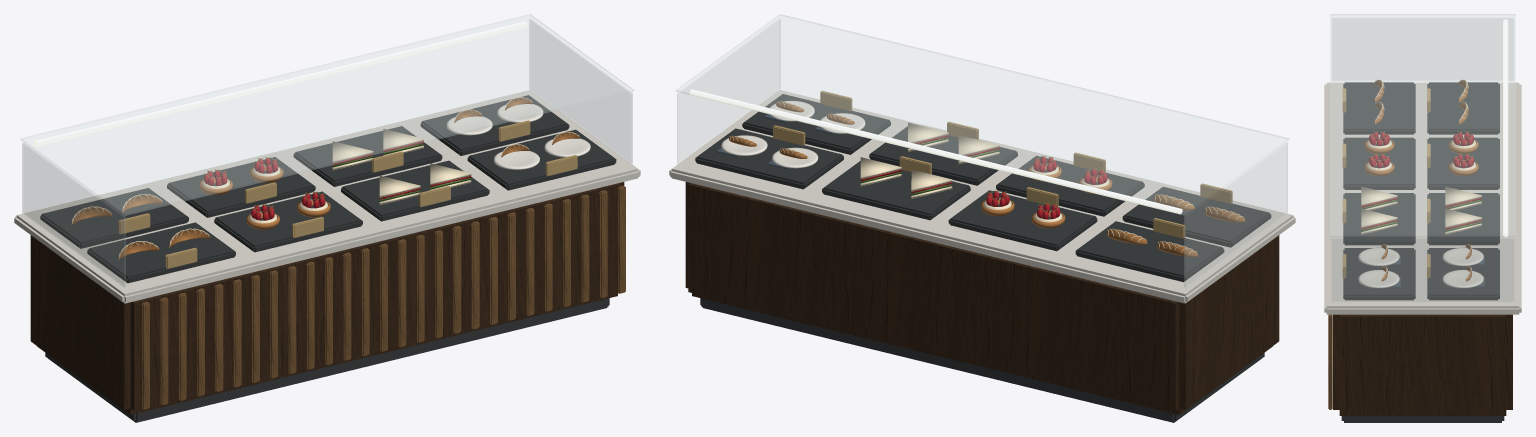
Rendered from bakery_vitrine.glb.
3 renders of one model, left to right at view 1: azimuth 30°, elevation 25°; view 2: azimuth 150°, elevation 25°; view 3: azimuth 270°, elevation 25°, orthographic. The views are drawn at different scales.
Visible parts, largest first — view 1: bakery_vitrine_Shop_display_glass, bakery_vitrine_CC0_Smoked_walnut, bakery_vitrine_Anodised_graphite, bakery_vitrine_CC0_Oak_veneer, bakery_vitrine_Honed_solid_surface, bakery_vitrine_Satin_champagne, bakery_vitrine_Warm_LED_diffuser, bakery_vitrine_V24_service_porcelain.002, bakery_vitrine_V24_service_porcelain, bakery_vitrine_V24_service_porcelain.001, bakery_vitrine_V24_service_porcelain.003, bakery_vitrine_V24_cream.004 (+3 smaller); view 2: bakery_vitrine_CC0_Smoked_walnut, bakery_vitrine_Shop_display_glass, bakery_vitrine_Anodised_graphite, bakery_vitrine_Honed_solid_surface, bakery_vitrine_Satin_champagne, bakery_vitrine_Warm_LED_diffuser, bakery_vitrine_V24_cream.013, bakery_vitrine_V24_cream.012, bakery_vitrine_V24_cream.004, bakery_vitrine_V24_service_porcelain.002, bakery_vitrine_V24_service_porcelain.003, bakery_vitrine_V24_cream.005; view 3: bakery_vitrine_Shop_display_glass, bakery_vitrine_Anodised_graphite, bakery_vitrine_CC0_Smoked_walnut, bakery_vitrine_Honed_solid_surface, bakery_vitrine_Warm_LED_diffuser, bakery_vitrine_Satin_champagne, bakery_vitrine_V24_service_porcelain, bakery_vitrine_V24_service_porcelain.001, bakery_vitrine_V24_service_porcelain.002, bakery_vitrine_V24_service_porcelain.003, bakery_vitrine_V24_cream.013, bakery_vitrine_V24_cream.005 (+11 smaller).
Part boxes in pixels (x1,y1,x2,y2): bakery_vitrine_Shop_display_glass: (21, 14, 633, 287); bakery_vitrine_CC0_Smoked_walnut: (30, 182, 624, 414); bakery_vitrine_Anodised_graphite: (40, 95, 616, 422); bakery_vitrine_CC0_Oak_veneer: (141, 185, 625, 409); bakery_vitrine_Honed_solid_surface: (14, 90, 640, 303); bakery_vitrine_Satin_champagne: (118, 120, 577, 268); bakery_vitrine_Warm_LED_diffuser: (34, 21, 527, 146); bakery_vitrine_V24_service_porcelain.002: (446, 116, 492, 135); bakery_vitrine_V24_service_porcelain: (494, 151, 539, 169); bakery_vitrine_V24_service_porcelain.001: (544, 138, 590, 157); bakery_vitrine_V24_service_porcelain.003: (497, 104, 543, 122); bakery_vitrine_V24_cream.004: (379, 176, 420, 204); bakery_vitrine_CC0_Smoked_walnut: (685, 182, 1279, 414); bakery_vitrine_Shop_display_glass: (676, 14, 1288, 287); bakery_vitrine_Anodised_graphite: (695, 94, 1271, 422); bakery_vitrine_Honed_solid_surface: (669, 90, 1295, 303); bakery_vitrine_Satin_champagne: (773, 90, 1232, 238); bakery_vitrine_Warm_LED_diffuser: (689, 89, 1182, 214); bakery_vitrine_V24_cream.013: (860, 157, 901, 186); bakery_vitrine_V24_cream.012: (911, 169, 952, 198); bakery_vitrine_V24_cream.004: (958, 135, 999, 164); bakery_vitrine_V24_service_porcelain.002: (772, 147, 818, 168); bakery_vitrine_V24_service_porcelain.003: (721, 135, 767, 155); bakery_vitrine_V24_cream.005: (908, 122, 948, 151); bakery_vitrine_Shop_display_glass: (1330, 14, 1515, 301); bakery_vitrine_Anodised_graphite: (1341, 82, 1504, 422); bakery_vitrine_CC0_Smoked_walnut: (1333, 314, 1512, 415); bakery_vitrine_Honed_solid_surface: (1324, 82, 1521, 314); bakery_vitrine_Warm_LED_diffuser: (1503, 19, 1508, 237); bakery_vitrine_Satin_champagne: (1342, 88, 1430, 278); bakery_vitrine_V24_service_porcelain: (1358, 247, 1399, 266); bakery_vitrine_V24_service_porcelain.001: (1358, 270, 1399, 288); bakery_vitrine_V24_service_porcelain.002: (1442, 247, 1483, 266); bakery_vitrine_V24_service_porcelain.003: (1442, 270, 1483, 288); bakery_vitrine_V24_cream.013: (1445, 209, 1481, 234); bakery_vitrine_V24_cream.005: (1361, 209, 1397, 234).
Bounding box in the file's own units: 3.68 × 1.49 × 1.36.
59 materials, 2 textured.
